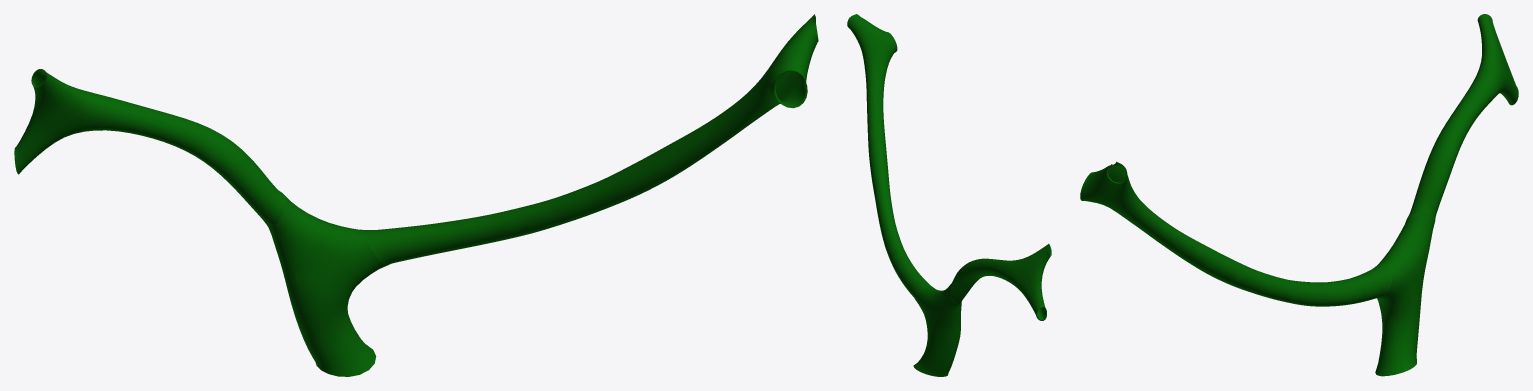
The model's file is VH_M_Ducts_of_Liver.glb.
3 renders of one model, left to right at view 1: azimuth 30°, elevation 25°; view 2: azimuth 150°, elevation 25°; view 3: azimuth 270°, elevation 25°, orthographic. The views are drawn at different scales.
Visible parts, largest first — view 1: VH_M_left_hepatic_duct, VH_M_common_hepatic_duct, VH_M_right_hepatic_duct; view 2: VH_M_left_hepatic_duct, VH_M_right_hepatic_duct, VH_M_common_hepatic_duct; view 3: VH_M_left_hepatic_duct, VH_M_common_hepatic_duct, VH_M_right_hepatic_duct.
Boxes of the visible parts, box(x1,y1,x2,y2) form: VH_M_left_hepatic_duct: box(366, 14, 818, 265); VH_M_common_hepatic_duct: box(268, 194, 386, 376); VH_M_right_hepatic_duct: box(14, 69, 286, 227); VH_M_left_hepatic_duct: box(847, 14, 932, 299); VH_M_right_hepatic_duct: box(948, 243, 1051, 320); VH_M_common_hepatic_duct: box(913, 286, 961, 376); VH_M_left_hepatic_duct: box(1080, 161, 1392, 306); VH_M_common_hepatic_duct: box(1375, 212, 1434, 376); VH_M_right_hepatic_duct: box(1408, 14, 1518, 220).
Bounding box in the file's own units: 0.0448 × 0.0305 × 0.0369.
